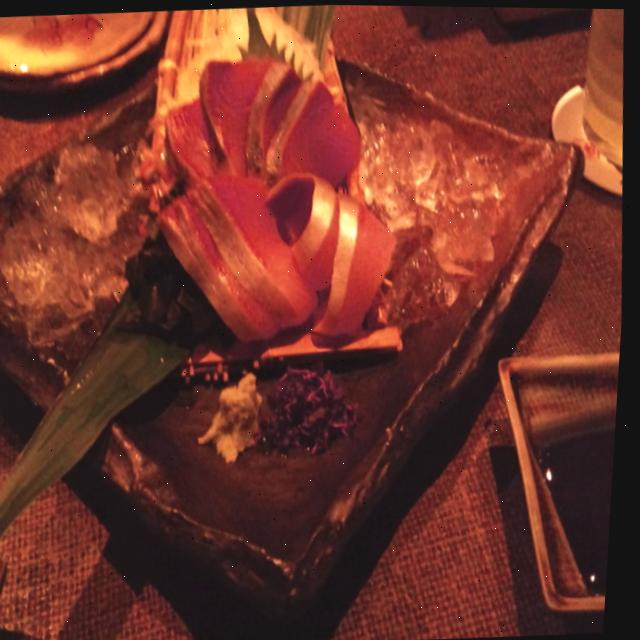刺身生食: (99, 22, 440, 394)
